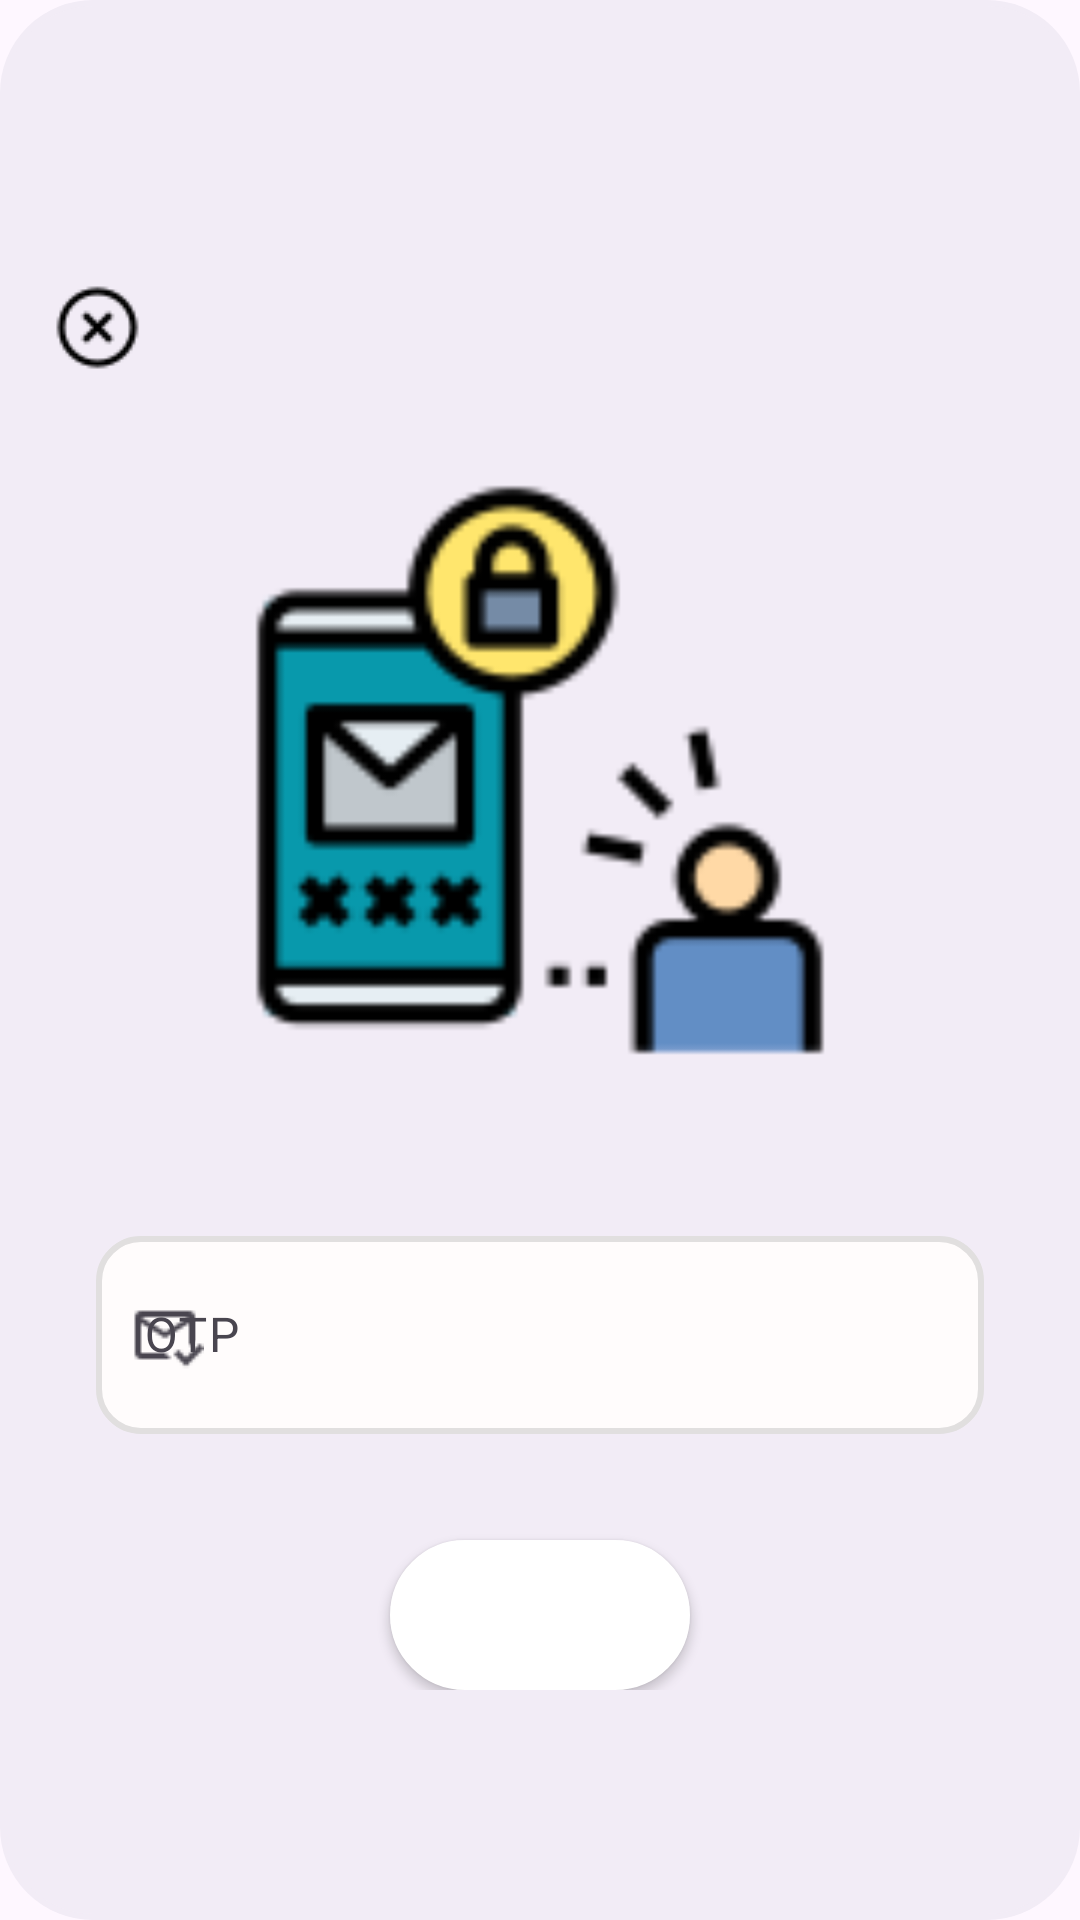

Where icons sit on this 1080px x 1920px app screen, as (x1, y1, x2, y2):
close: (56, 286, 139, 369)
